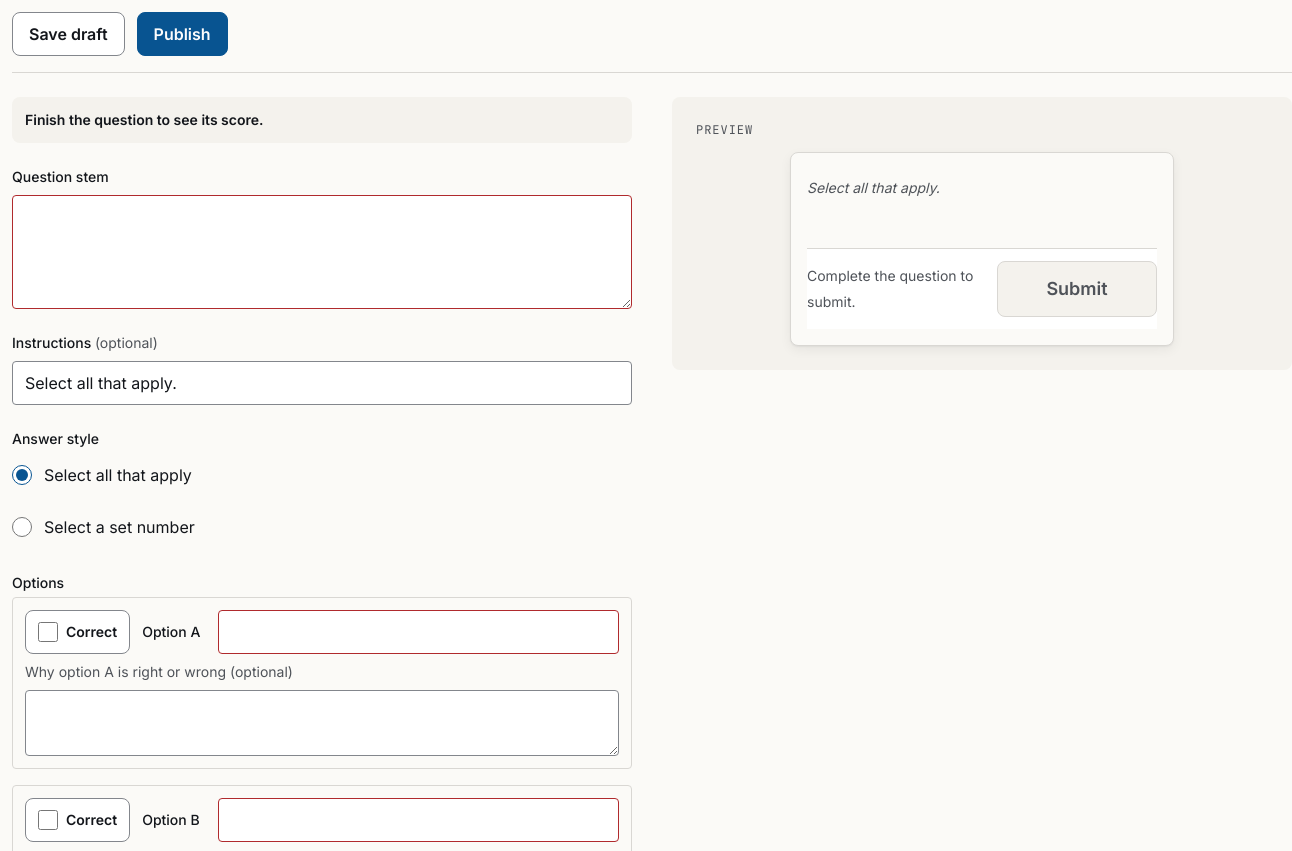
MultipleResponseEditor Select N count › still saves a draft while the count is blank, and asks for the count as a problem
The width and height of the screenshot is (1292, 851).
Click the radio button labelled "Select a set number" at (22, 527), box [12, 517, 32, 537]
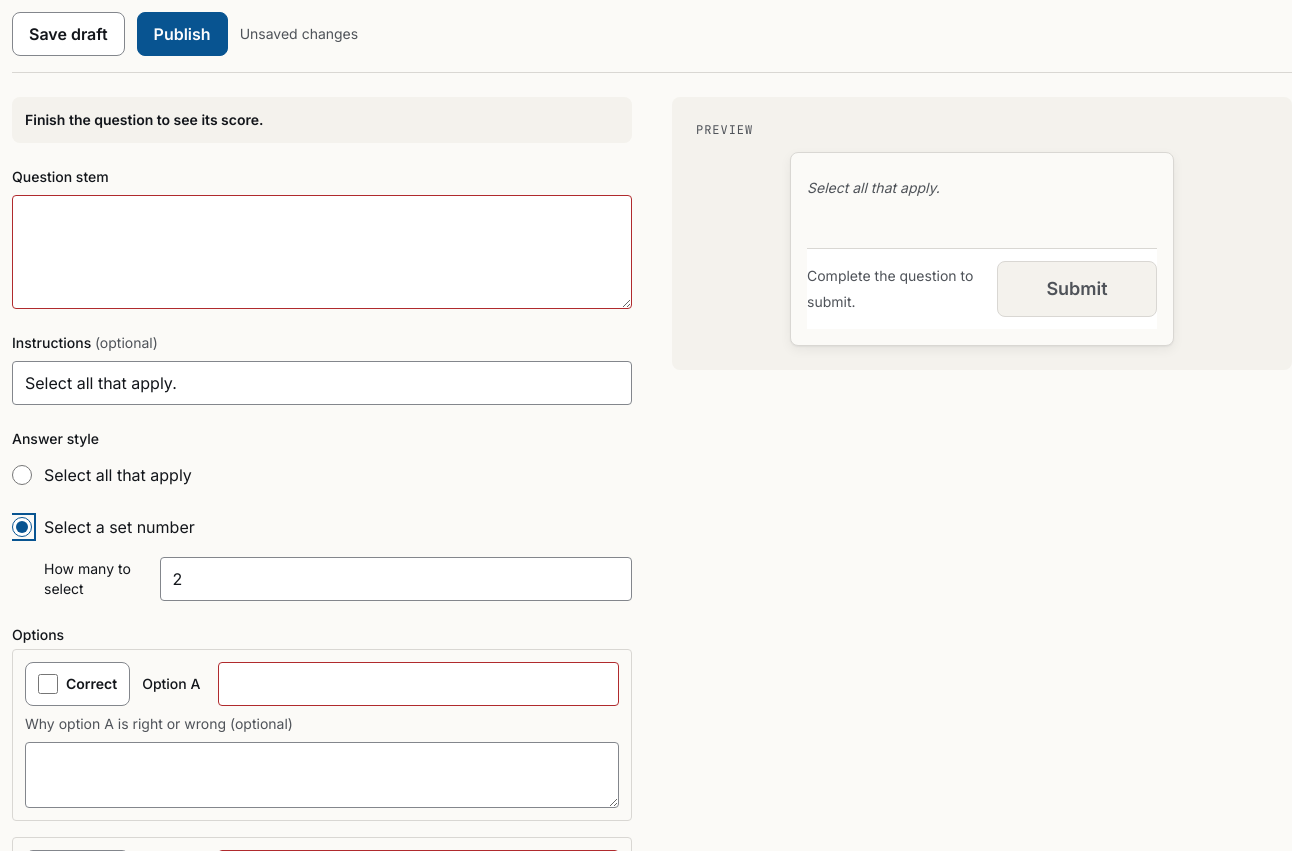
Clear the number field labelled "How many to select" at (396, 579), box [160, 557, 632, 601]
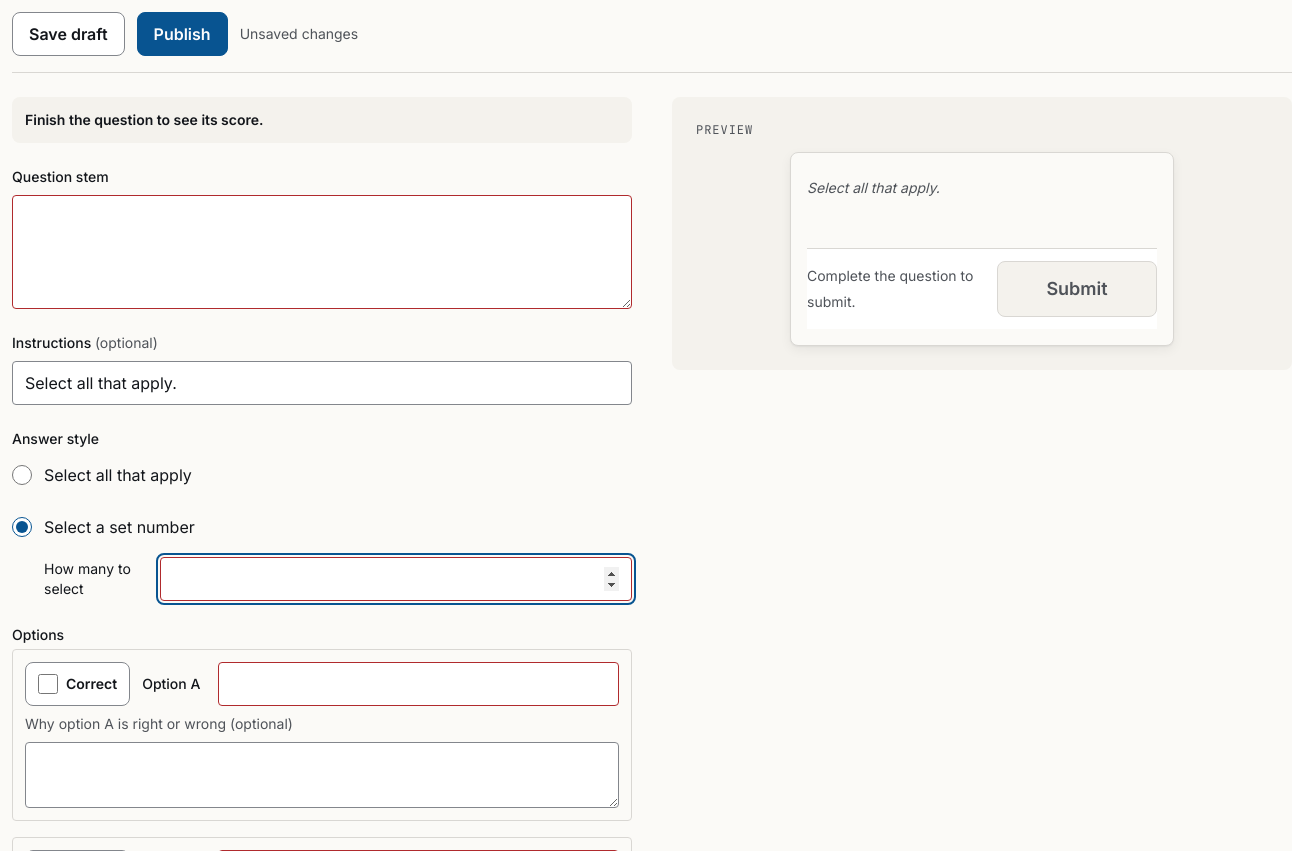
Click the button "Save draft" at (68, 34), box [12, 12, 125, 56]
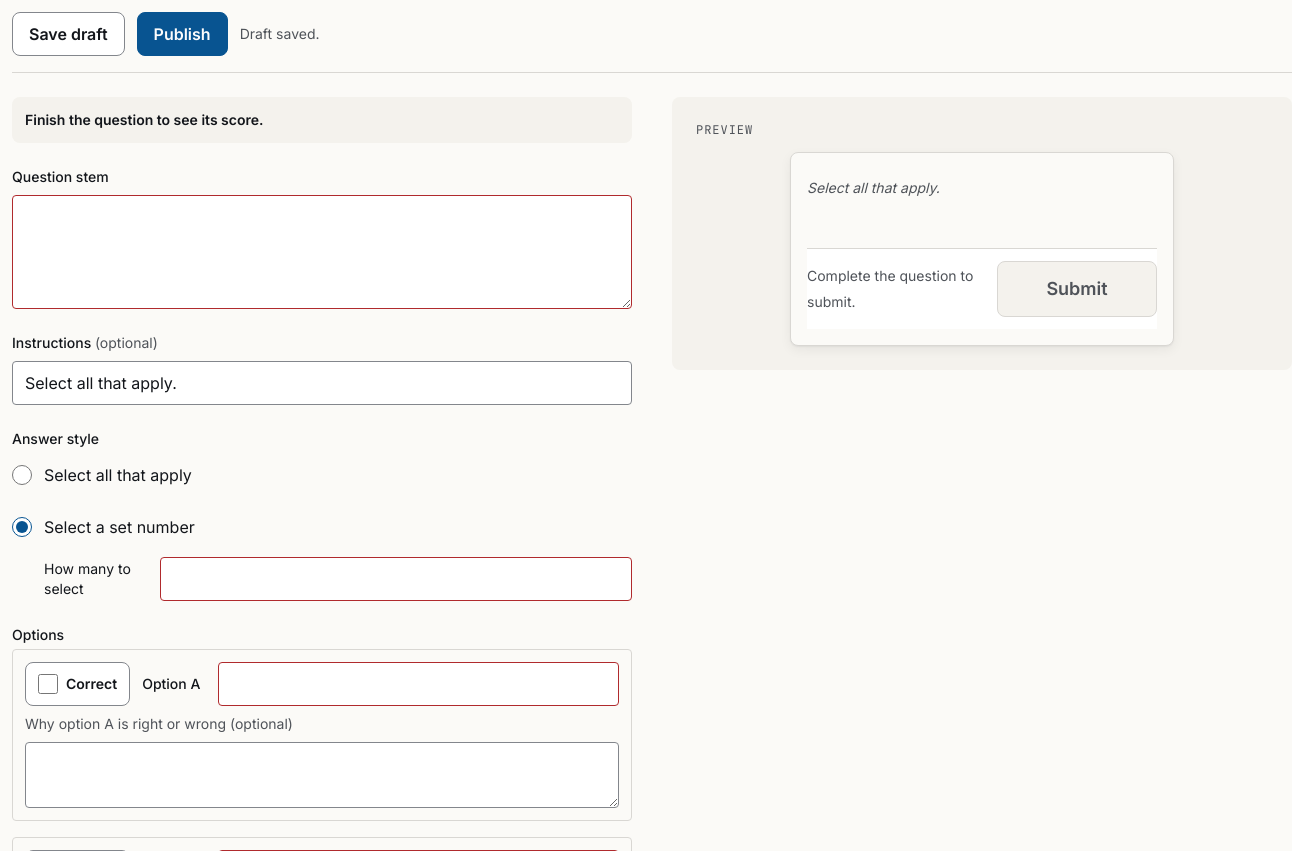
Expected: the message reads "Draft saved.", [240, 25, 320, 42]
